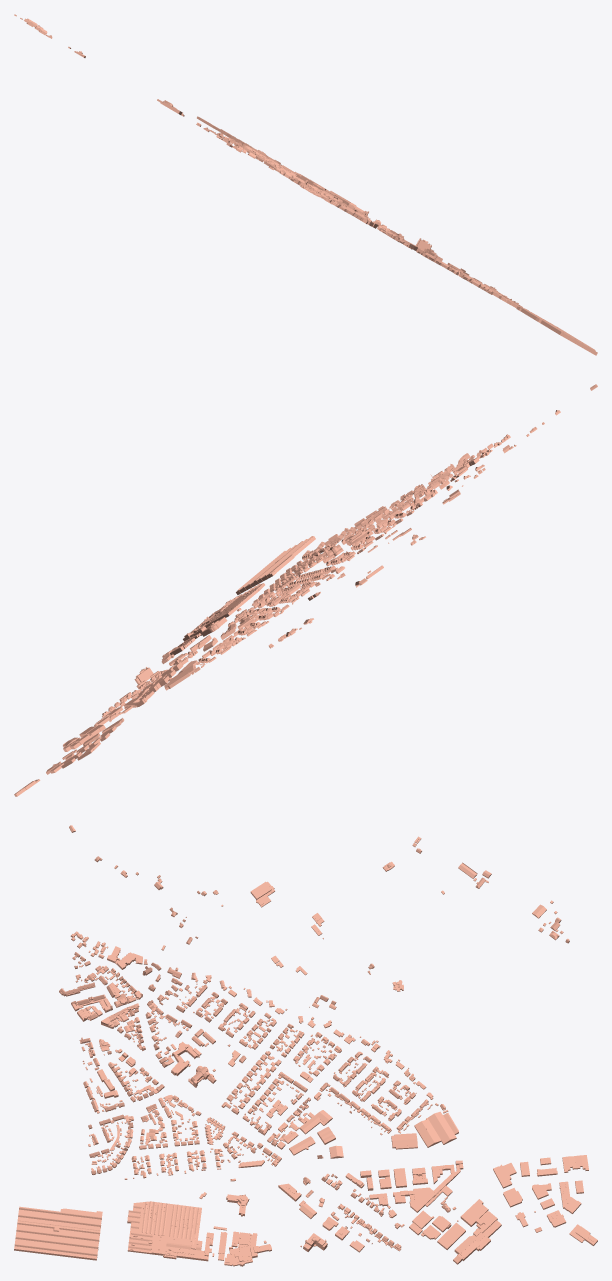
The picture shows the model from 3 angles, top to bottom: view 1: azimuth 30°, elevation 25°; view 2: azimuth 150°, elevation 25°; view 3: azimuth 270°, elevation 25°; orthographic projection. The views are drawn at different scales.
Bounding box in the file's own units: 954 × 757 × 1405.
